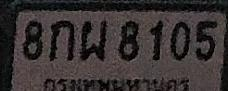0: (170, 21, 190, 60)
1: (150, 20, 163, 60)
5: (195, 20, 217, 60)
8: (118, 20, 139, 60), (22, 20, 42, 60)
A01: (48, 20, 74, 60)
A28: (80, 20, 107, 60)
BKK: (41, 75, 194, 91)
